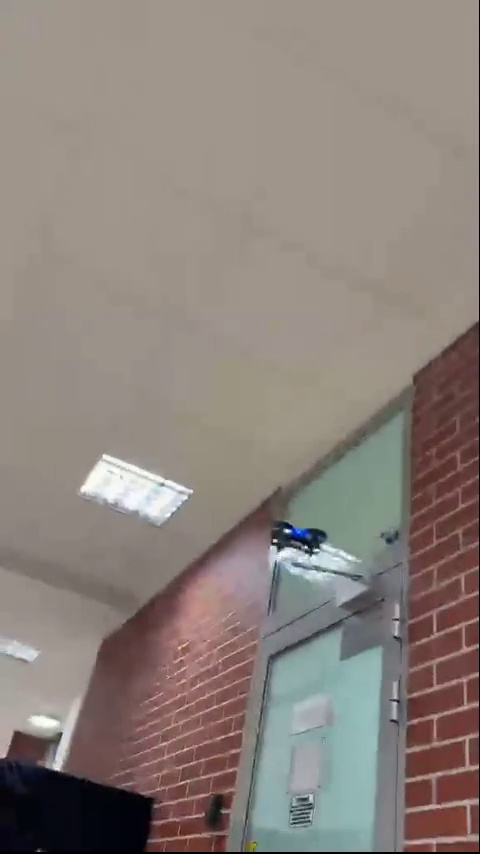drone: (270, 518, 328, 557)
